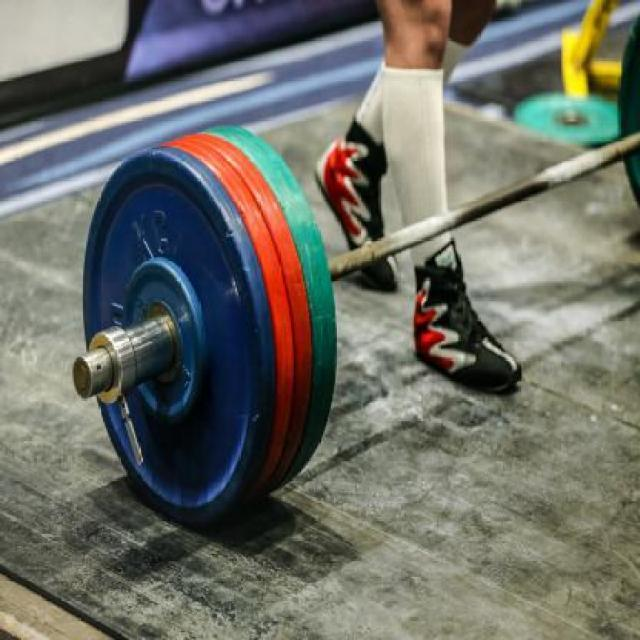barbell: (75, 140, 296, 534)
